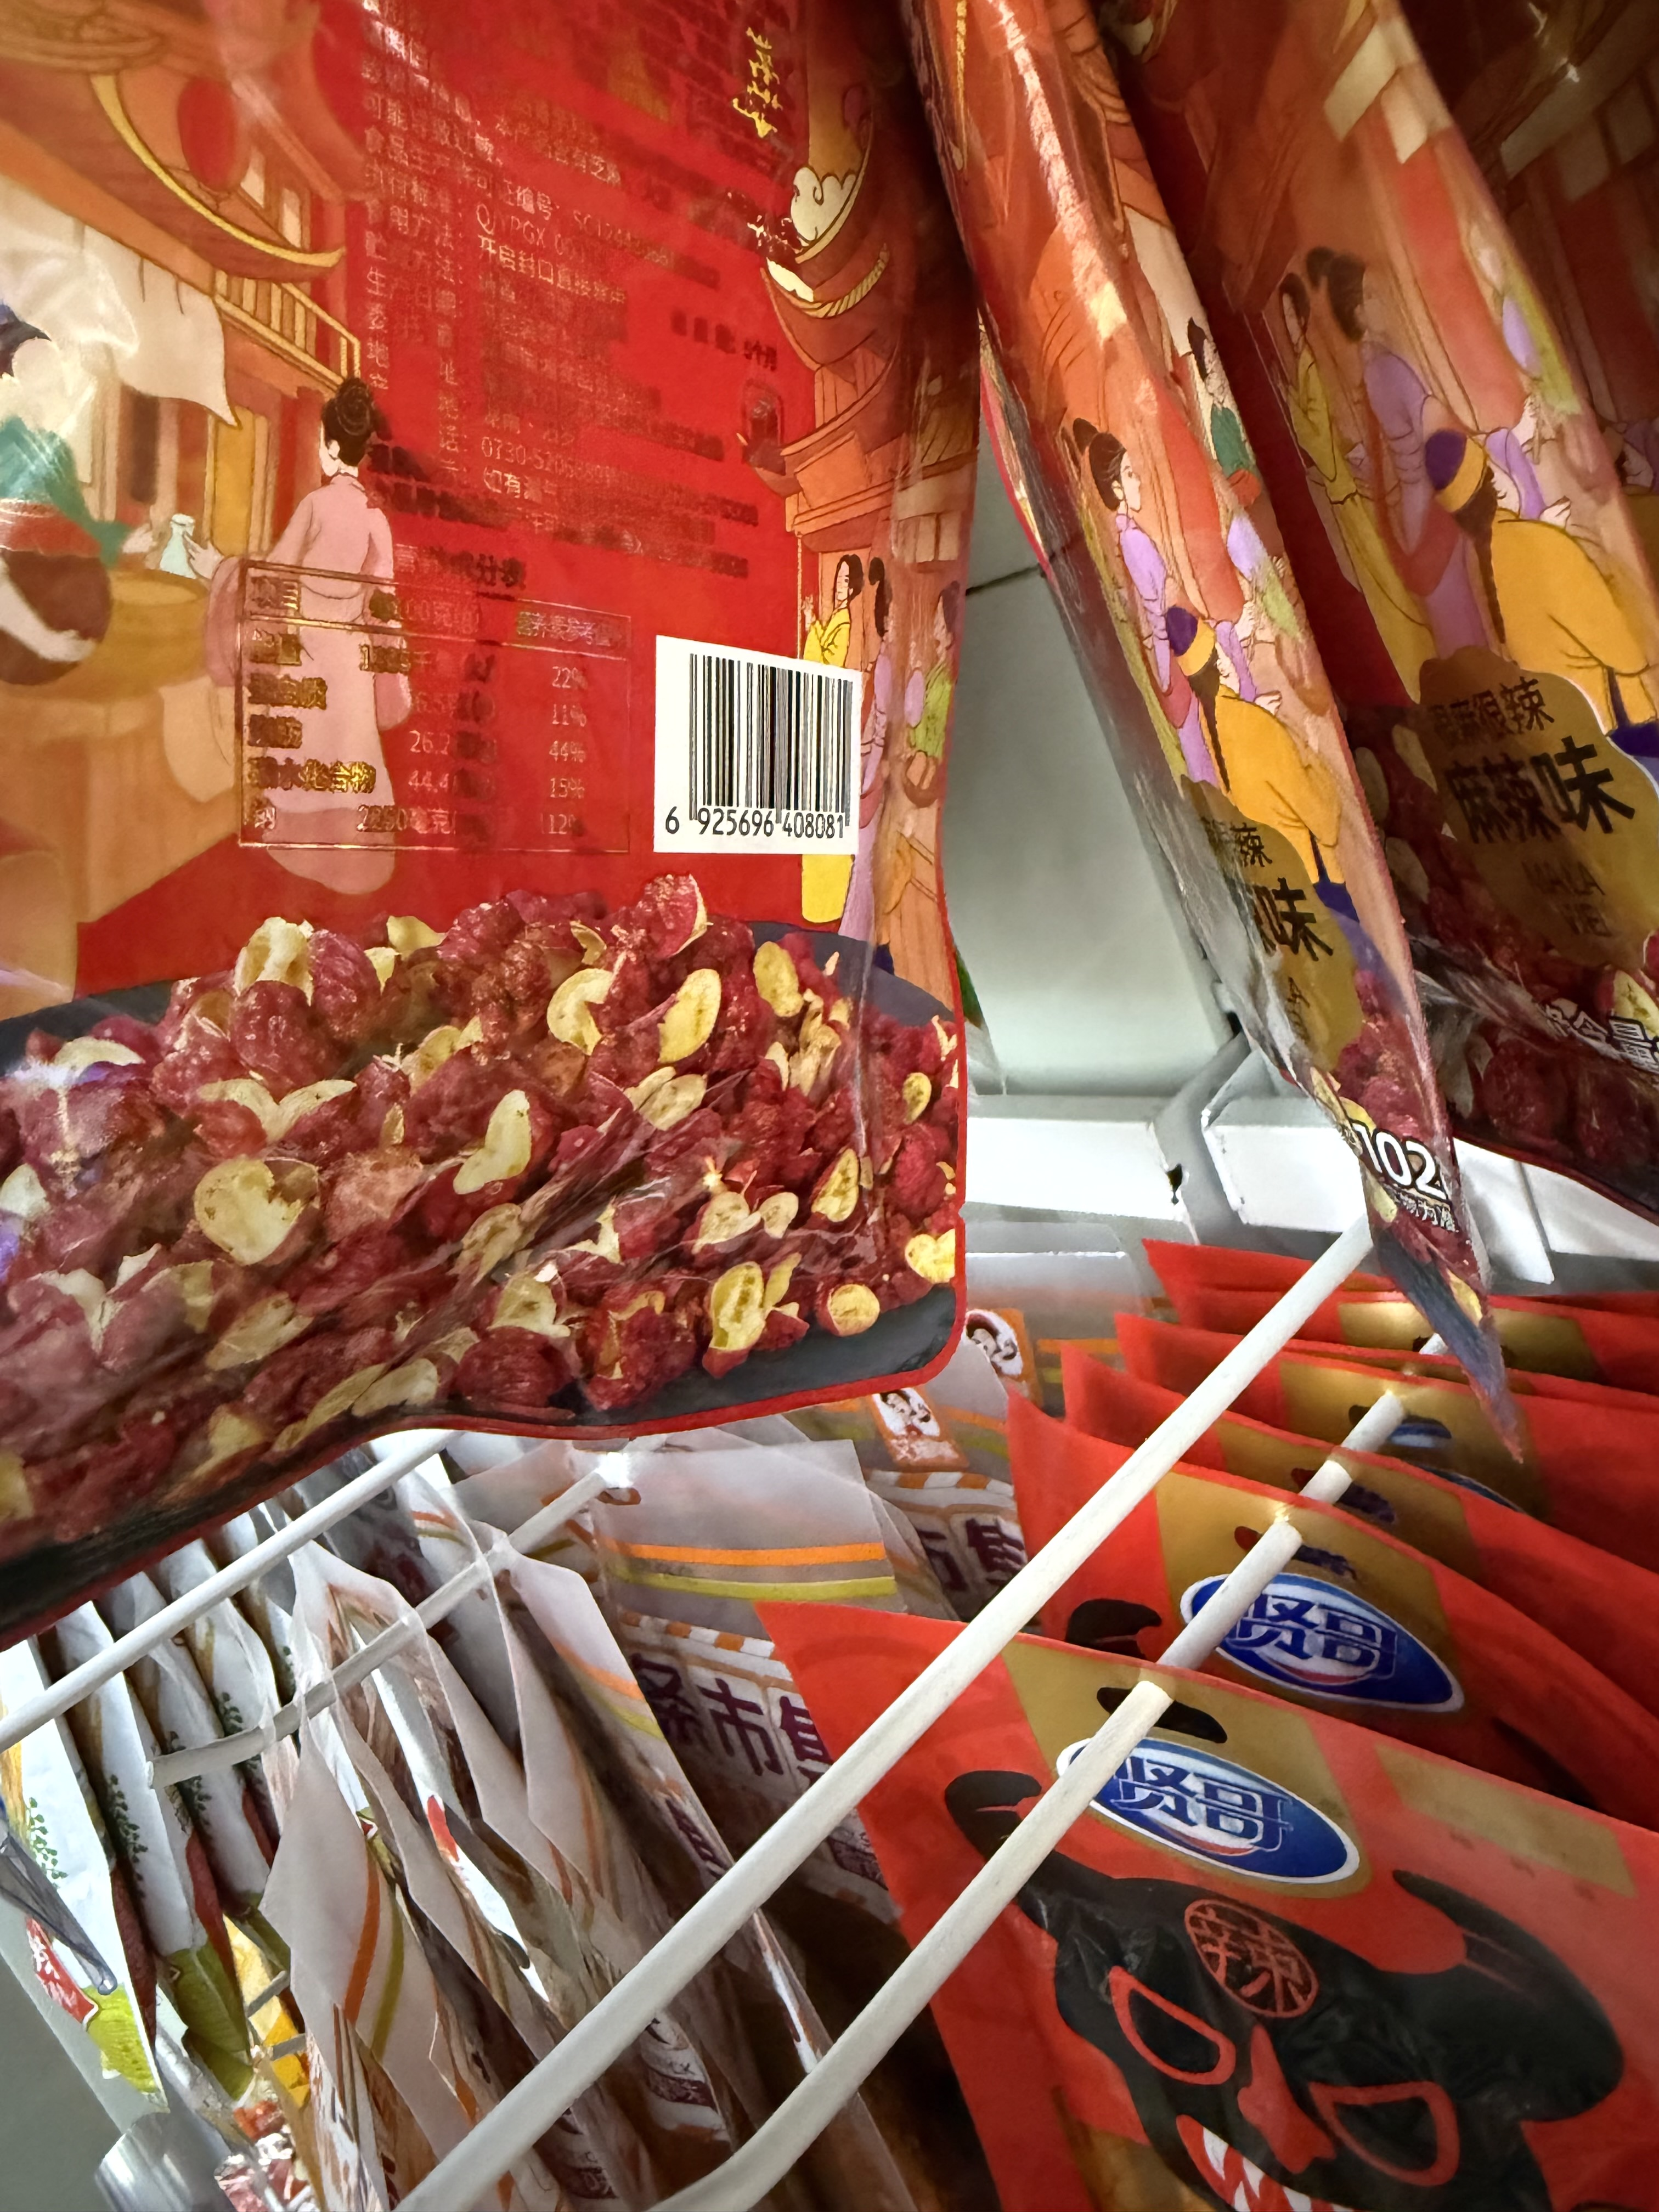bar: (673, 643, 864, 834)
